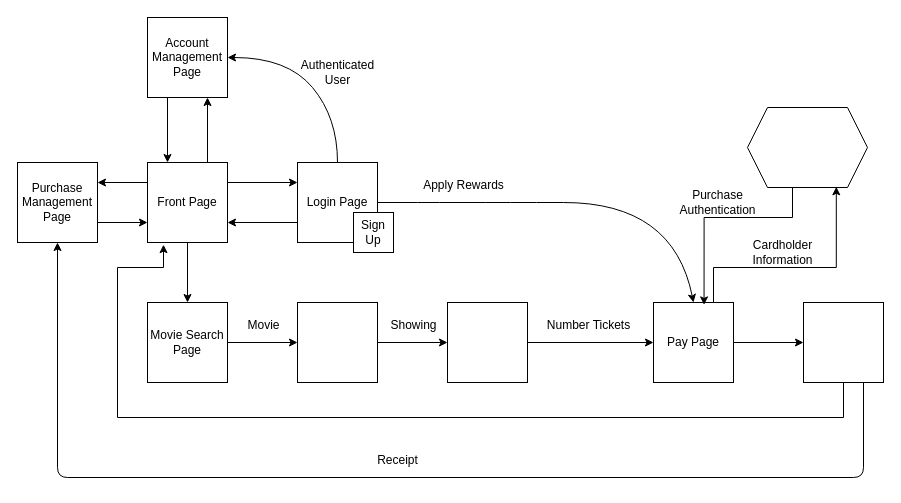
The diagram is 901 pixels wide and 503 high, and some of its shapes have lost their labels. The centre of each missing label's shape, as x and y in pixels:
Confirmation Page: [843,342]
Movie Showing Selection Page: [337,342]
Paypal / Strype: [807,147]
Ticket Choice Page: [487,342]
